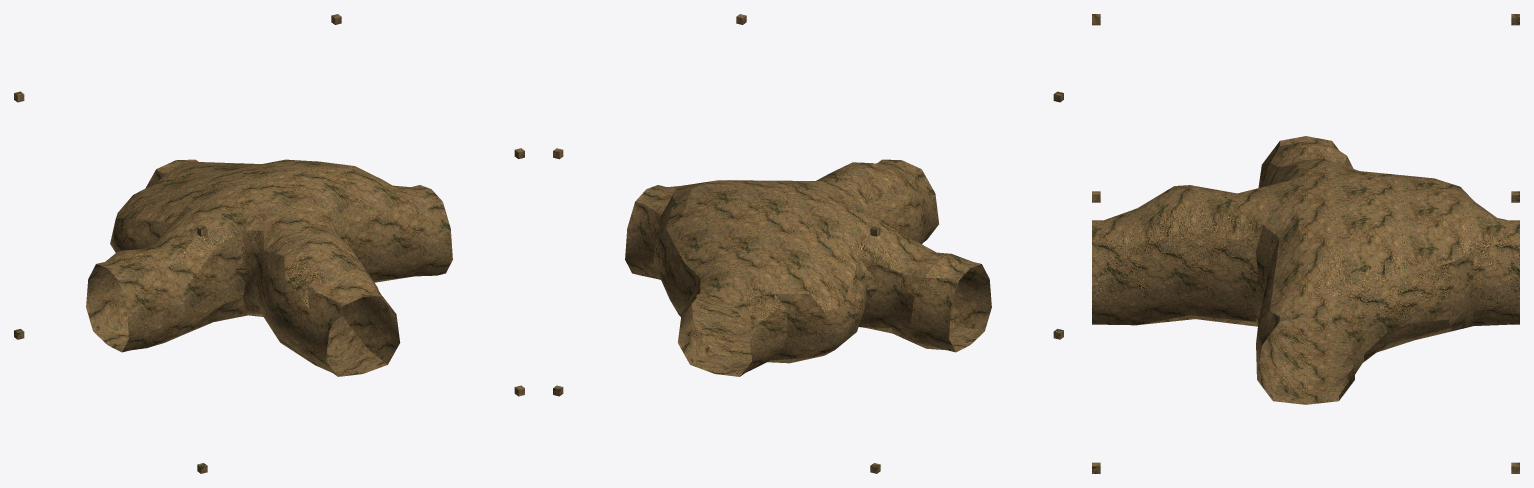
The model's file is lba_4b.glb.
3 views of the same model, side by side, from view 1: azimuth 30°, elevation 25°; view 2: azimuth 150°, elevation 25°; view 3: azimuth 270°, elevation 25° (orthographic). The views are drawn at different scales.
Visible parts, largest first — view 1: lba_4b; view 2: lba_4b; view 3: lba_4b.
Boxes of the visible parts, bbox=[...] form: lba_4b: bbox=[14, 14, 524, 473]; lba_4b: bbox=[553, 14, 1063, 473]; lba_4b: bbox=[1092, 14, 1519, 473].
Bounding box in the file's own units: 15 × 10.8 × 15.
Materials: 1 (1 with a texture image).
